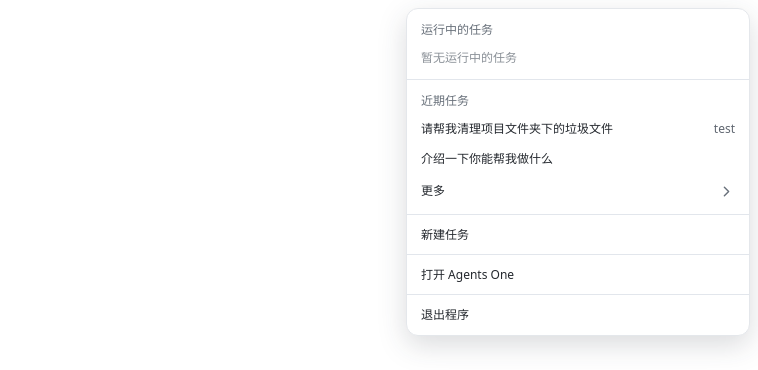
Test: TrayMenu › reveals older tasks in a left flyout when More is hovered
The width and height of the screenshot is (758, 370).
Expected: the text "test" is shown, 714,120 -> 735,137
Hover over the button "更多" at {"x": 433, "y": 190}, box 407,174 -> 749,208
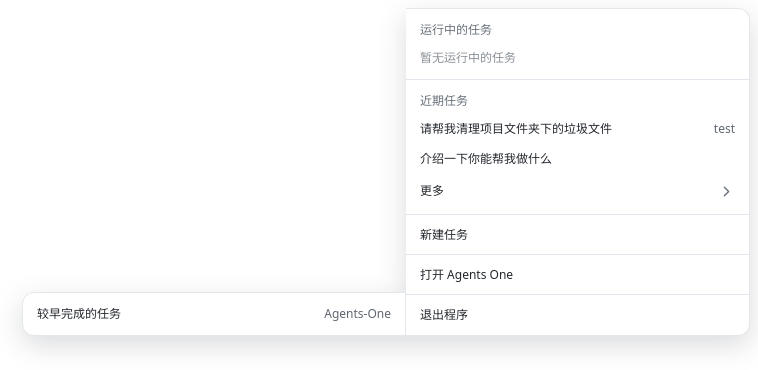
Expected: the text "较早完成的任务" is shown, 37,305 -> 121,322
